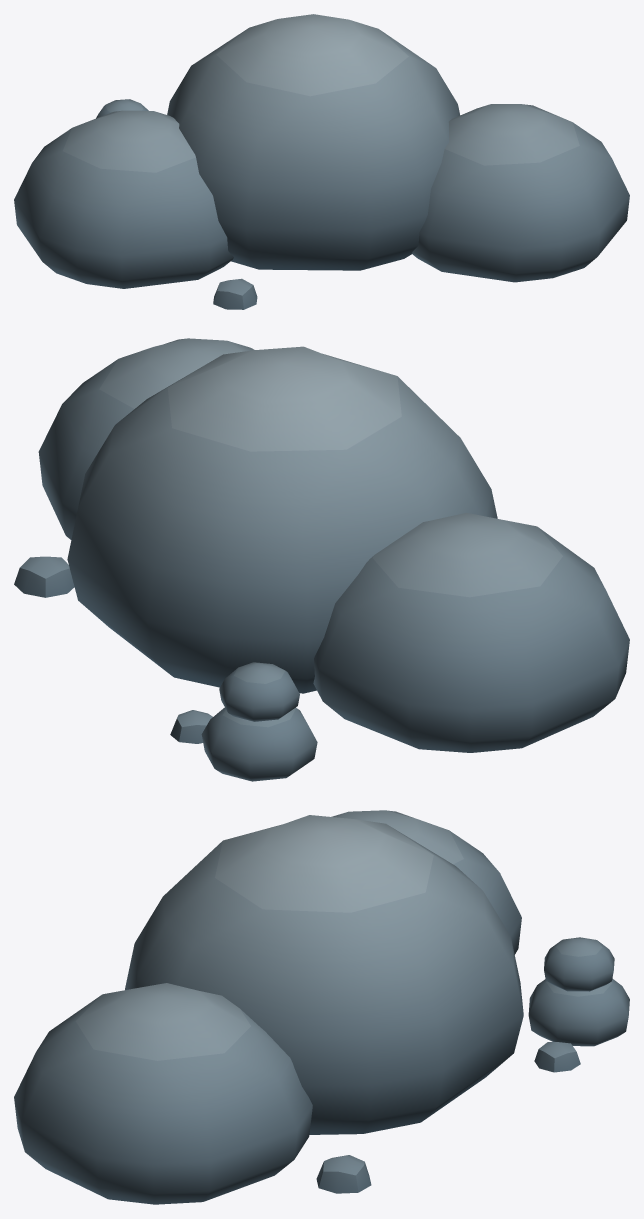
The model's file is Rock_5_G_Color4.fbx.
The picture shows the model from 3 angles, top to bottom: view 1: azimuth 30°, elevation 25°; view 2: azimuth 150°, elevation 25°; view 3: azimuth 270°, elevation 25°; orthographic projection. The views are drawn at different scales.
Visible parts, largest first — view 1: Rock_5_G_Color4; view 2: Rock_5_G_Color4; view 3: Rock_5_G_Color4.
Part boxes in pixels (x1,y1,x2,y2): Rock_5_G_Color4: [14, 14, 629, 309]; Rock_5_G_Color4: [14, 338, 629, 781]; Rock_5_G_Color4: [14, 810, 629, 1204].
Bounding box in the file's own units: 2.35 × 0.9346 × 2.05.
